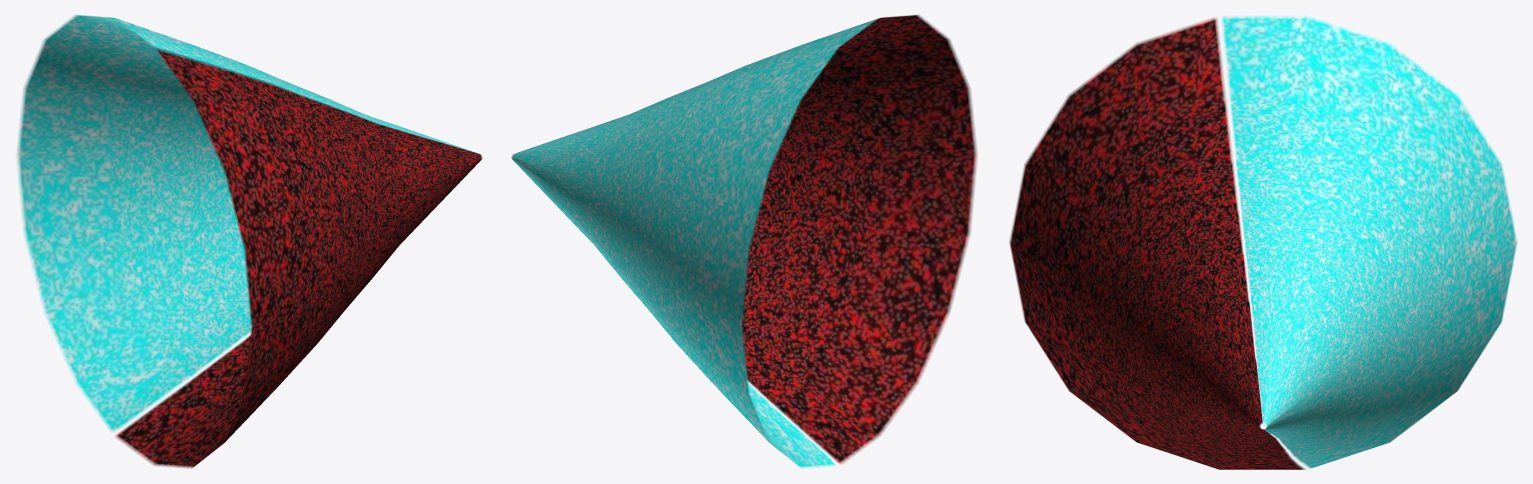
The picture shows the model from 3 angles, left to right: view 1: azimuth 30°, elevation 25°; view 2: azimuth 150°, elevation 25°; view 3: azimuth 270°, elevation 25°; orthographic projection. The views are drawn at different scales.
Visible parts, largest first — view 1: SM_VFX_Magic_Air_Shockwave_LOD0; view 2: SM_VFX_Magic_Air_Shockwave_LOD0; view 3: SM_VFX_Magic_Air_Shockwave_LOD0.
Boxes of the visible parts, x1=… form: SM_VFX_Magic_Air_Shockwave_LOD0: x1=16, y1=15, x2=482, y2=468; SM_VFX_Magic_Air_Shockwave_LOD0: x1=511, y1=15, x2=977, y2=468; SM_VFX_Magic_Air_Shockwave_LOD0: x1=1009, y1=16, x2=1517, y2=469.
Size of the model in its own units: 1.74 by 2 by 2.03.
1 material, 1 textured.
